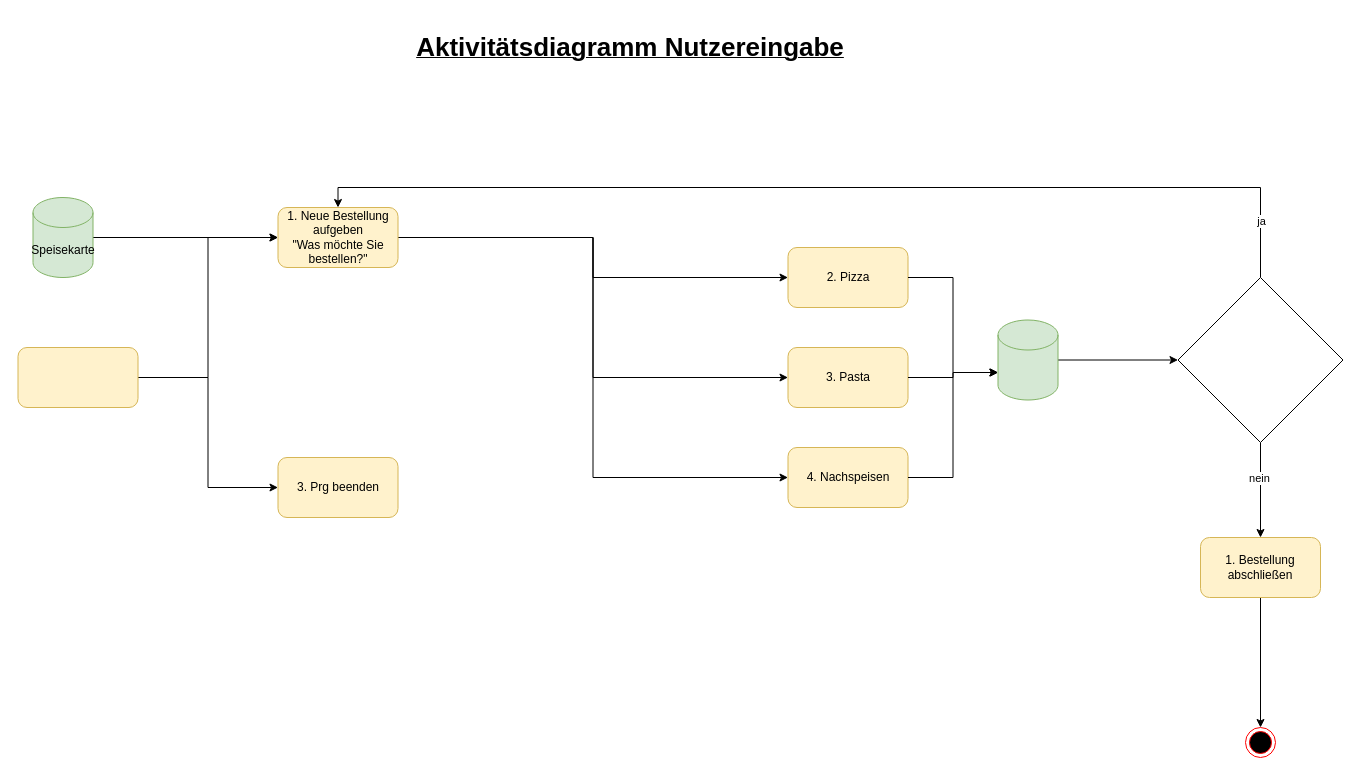
Some shapes in this 1360 by 775 pixel diagram are drawn without their labels. Here are the shapes that lost their labels. From the top down, the centre of each, then its label:
the point at 77,377: Willkommen, was möchten sie tun?
the point at 1027,359: Datenbank
the point at 1260,359: Warenkorb anzeigen. + Darf es noch etwas sein?
